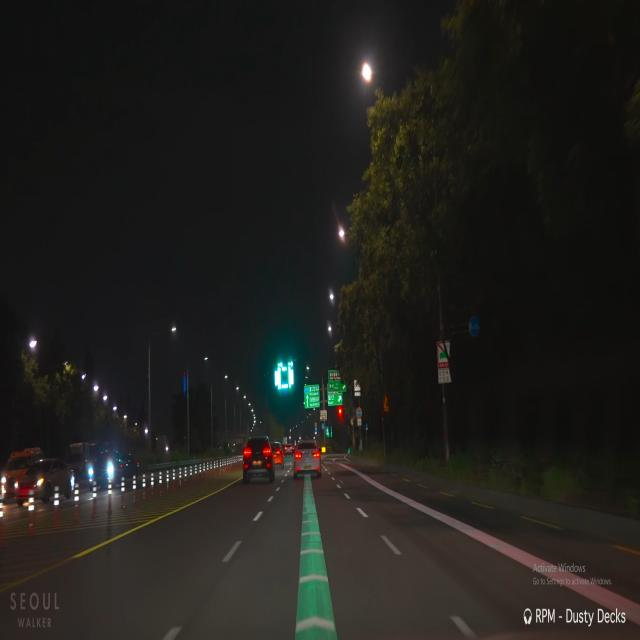headlights: (12, 469, 46, 497), (85, 460, 118, 483)
